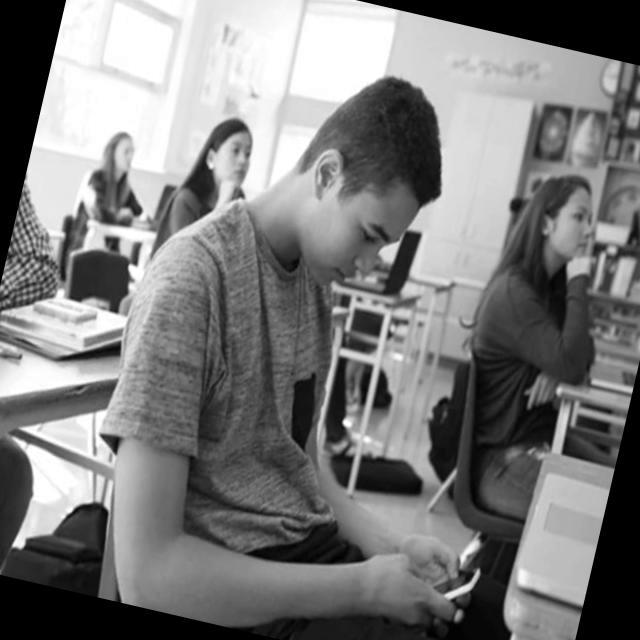phone: (428, 558, 482, 606)
